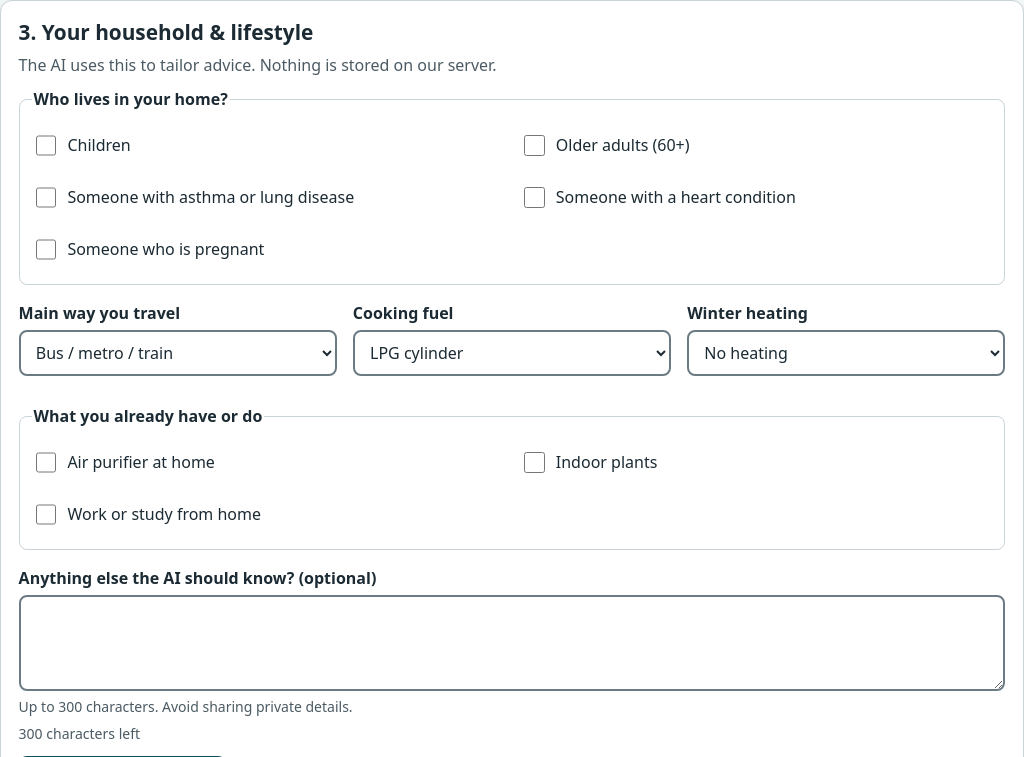
ProfileForm › shows remaining characters and enforces the limit
The width and height of the screenshot is (1024, 757).
Expected: the text "300 characters left" is shown, [19,724,140,743]
Type "abc" into the text box labelled "Anything else the AI should know? (optional)" at (512, 643), box [19,595,1005,691]
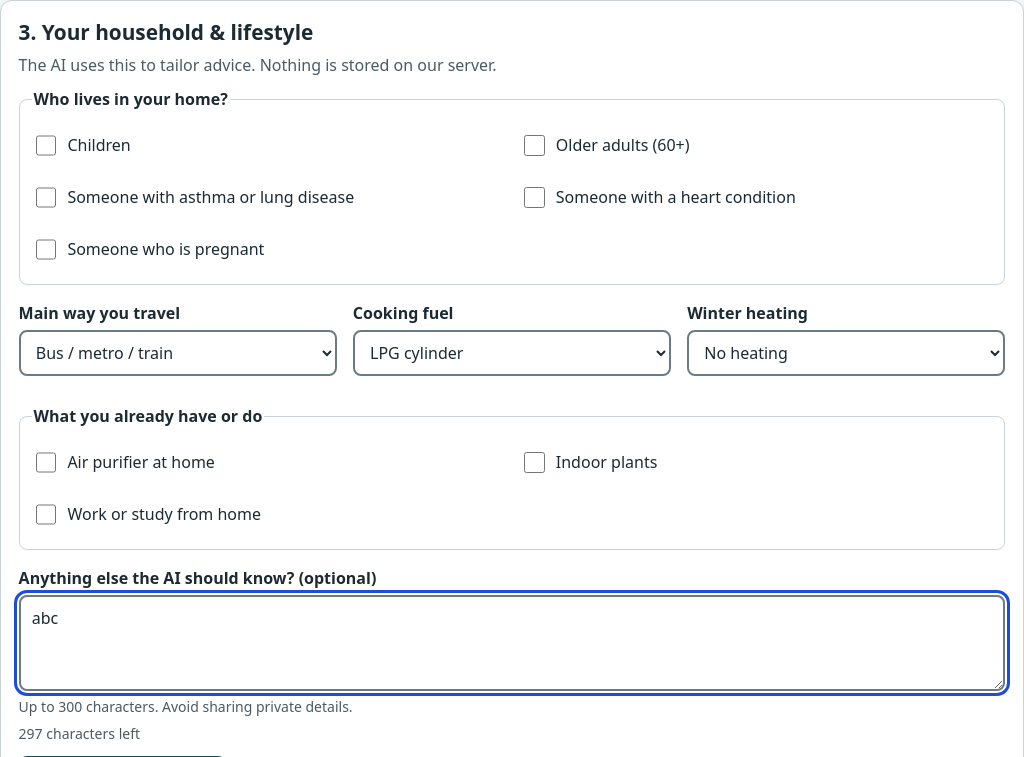
Expected: the text "297 characters left" is shown, [19,724,140,743]
